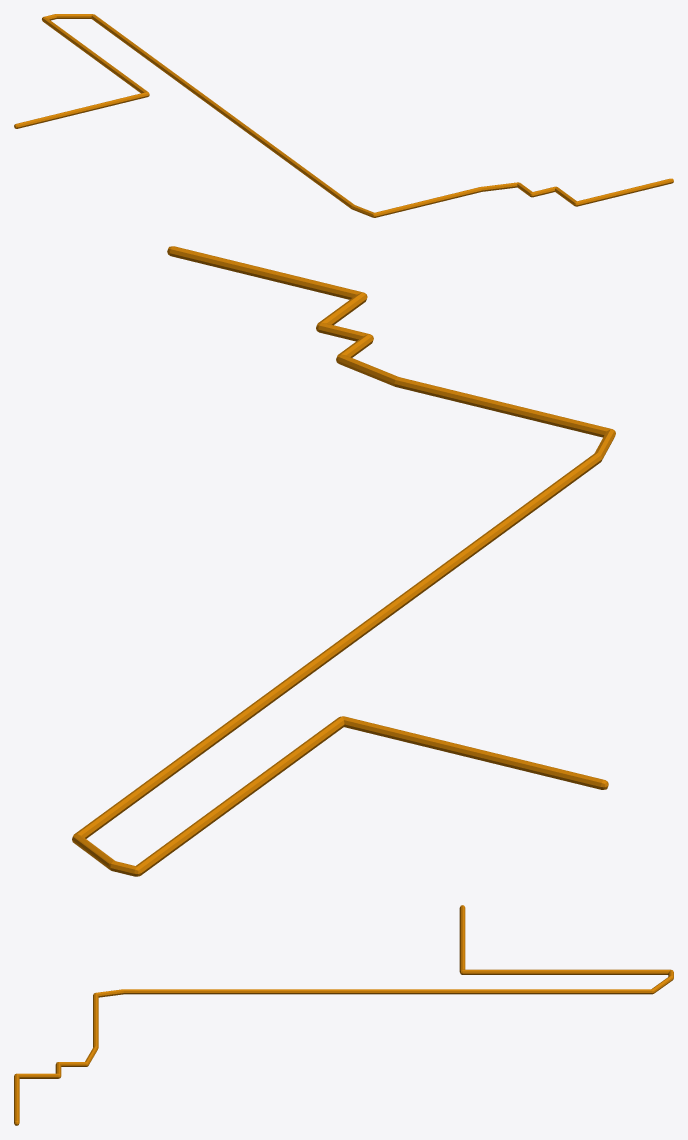
The picture shows the model from 3 angles, top to bottom: view 1: azimuth 30°, elevation 25°; view 2: azimuth 150°, elevation 25°; view 3: azimuth 270°, elevation 25°; orthographic projection. The views are drawn at different scales.
Size of the model in its own units: 1854 by 20 by 2373.
